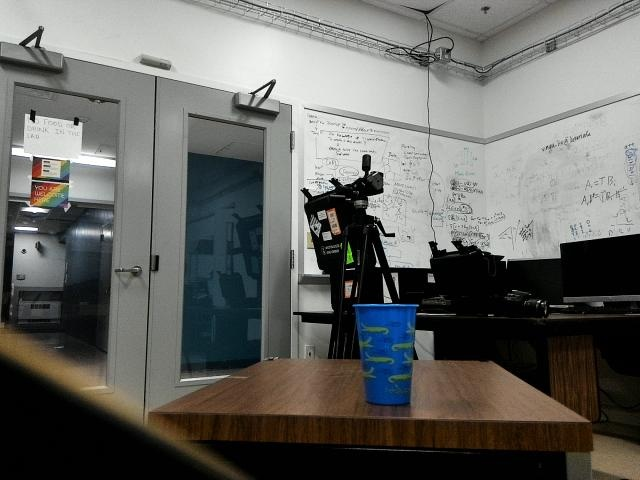water_cup: (343, 300, 431, 410)
